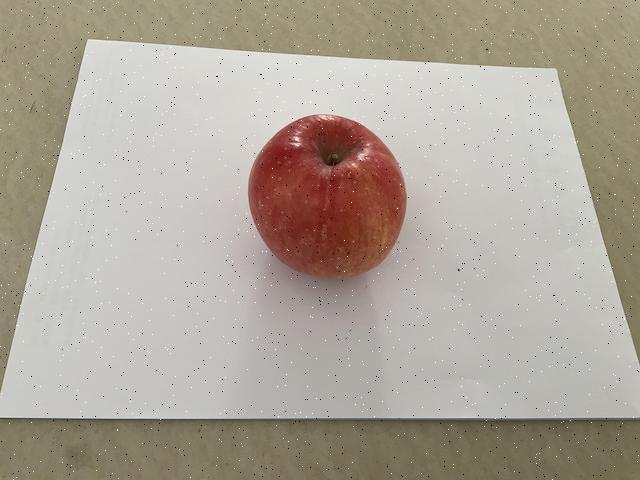apple: (240, 103, 412, 284)
